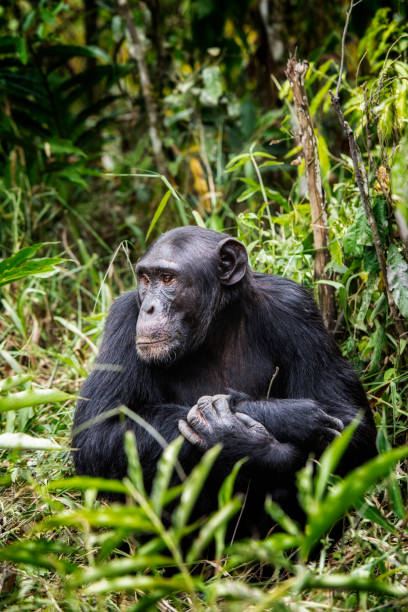chimpanzee: (95, 216, 258, 382)
